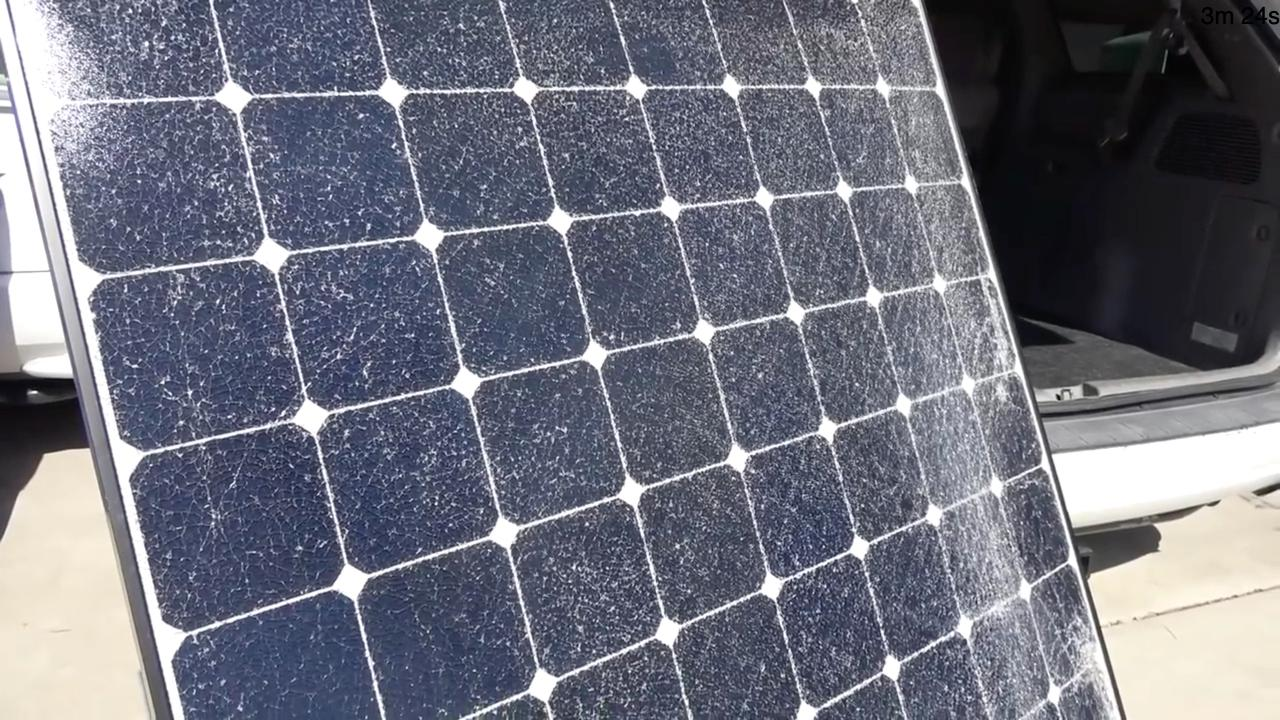Crack: (704, 32, 973, 268), (919, 428, 1029, 609), (890, 300, 1001, 424), (36, 13, 133, 150), (976, 624, 1094, 705)
